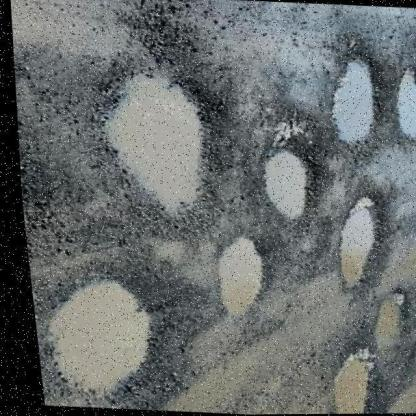pothole: (84, 66, 227, 221), (29, 270, 173, 405), (314, 53, 390, 148), (322, 191, 391, 293), (203, 230, 271, 320), (248, 145, 320, 224), (356, 290, 413, 365), (312, 350, 378, 414), (381, 64, 416, 141), (406, 262, 416, 330)
